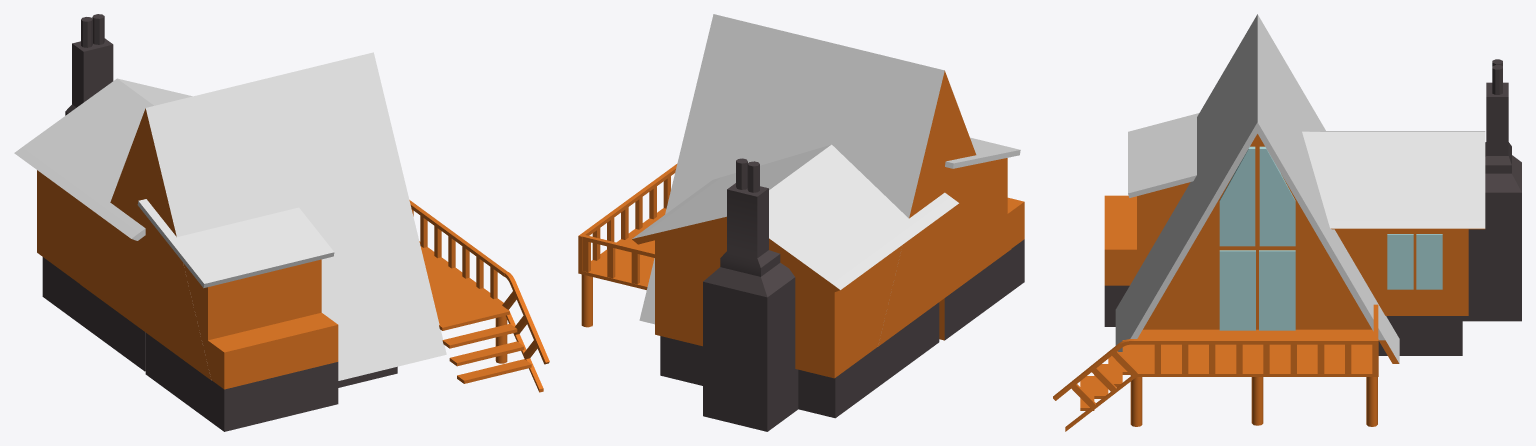
Rendered from LakeHouse.fbx.
The picture shows the model from 3 angles, left to right: view 1: azimuth 30°, elevation 25°; view 2: azimuth 150°, elevation 25°; view 3: azimuth 270°, elevation 25°; orthographic projection. The views are drawn at different scales.
Visible parts, largest first — view 1: Cube, Cube.001, Cube.002, Cube.004, Cube.011, Cube.003, Cube.009, Cube.008; view 2: Cube, Cube.002, Cube.003, Cube.001, Cube.009, Cube.004, Cube.010, Cylinder.001; view 3: Cube, Cube.002, Cube.001, Cube.003, Cube.004, Cube.005, Cube.006, Cube.009, Cube.007, Cube.011, Cube.008, Cylinder.002 (+2 smaller).
Part boxes in pixels (x1=…): Cube: x1=80, y1=52, x2=446, y2=380; Cube.001: x1=137, y1=199, x2=397, y2=431; Cube.002: x1=14, y1=78, x2=192, y2=371; Cube.004: x1=419, y1=241, x2=543, y2=392; Cube.011: x1=439, y1=306, x2=531, y2=383; Cube.003: x1=65, y1=14, x2=113, y2=115; Cube.009: x1=409, y1=200, x2=507, y2=298; Cube.008: x1=502, y1=288, x2=549, y2=364; Cube: x1=639, y1=14, x2=1011, y2=346; Cube.002: x1=632, y1=144, x2=958, y2=418; Cube.003: x1=703, y1=158, x2=798, y2=431; Cube.001: x1=939, y1=137, x2=1024, y2=340; Cube.009: x1=578, y1=164, x2=677, y2=271; Cube.004: x1=578, y1=208, x2=666, y2=289; Cube.010: x1=583, y1=235, x2=654, y2=284; Cylinder.001: x1=581, y1=274, x2=592, y2=327; Cube: x1=1115, y1=14, x2=1399, y2=363; Cube.002: x1=1302, y1=131, x2=1485, y2=355; Cube.001: x1=1104, y1=113, x2=1199, y2=326; Cube.003: x1=1462, y1=59, x2=1521, y2=321; Cube.004: x1=1065, y1=329, x2=1378, y2=431; Cube.005: x1=1219, y1=250, x2=1295, y2=330; Cube.006: x1=1219, y1=146, x2=1295, y2=246; Cube.009: x1=1134, y1=339, x2=1378, y2=373; Cube.007: x1=1387, y1=234, x2=1442, y2=289; Cube.011: x1=1080, y1=340, x2=1136, y2=410; Cube.008: x1=1053, y1=347, x2=1138, y2=409; Cylinder.002: x1=1130, y1=375, x2=1142, y2=426.
Bounding box in the file's own units: 275 × 238 × 366.
